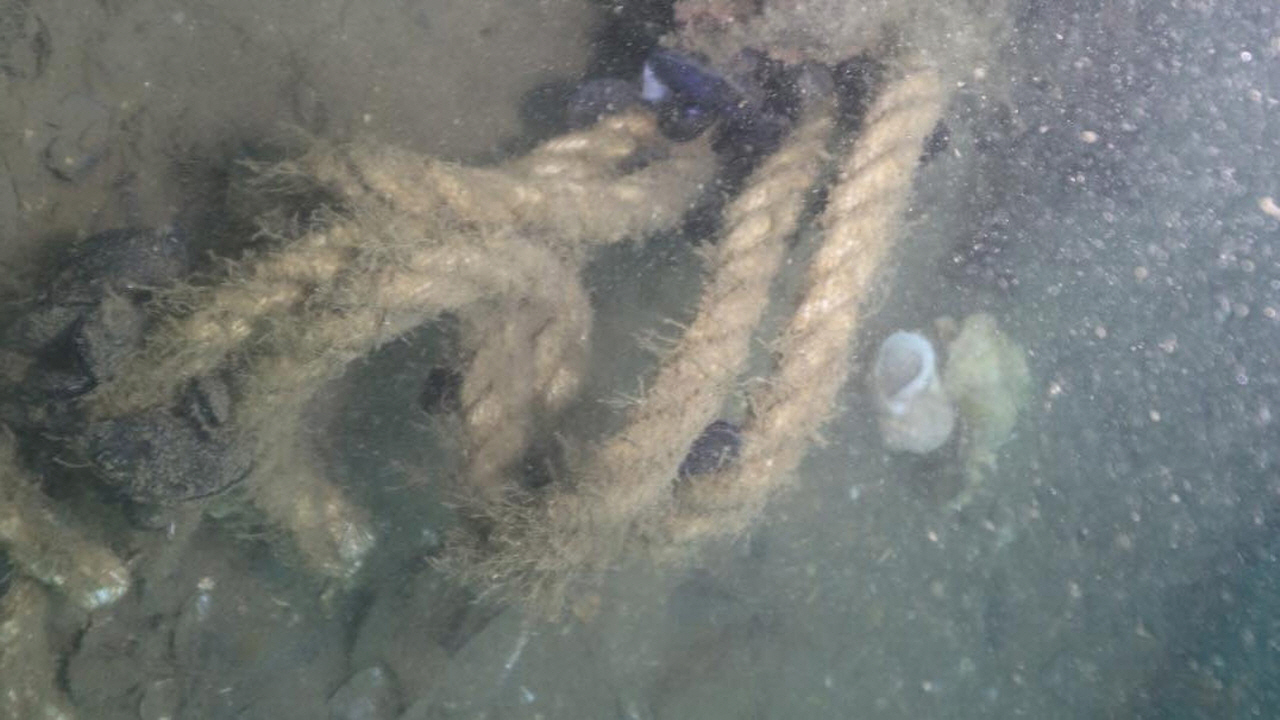bundle of ropes: (90, 43, 948, 621)
